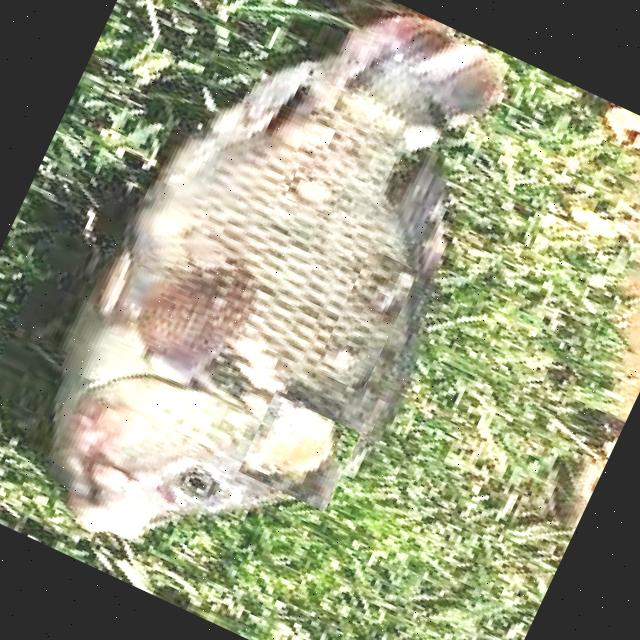Aeromonas Septicemia: (54, 15, 503, 538)
